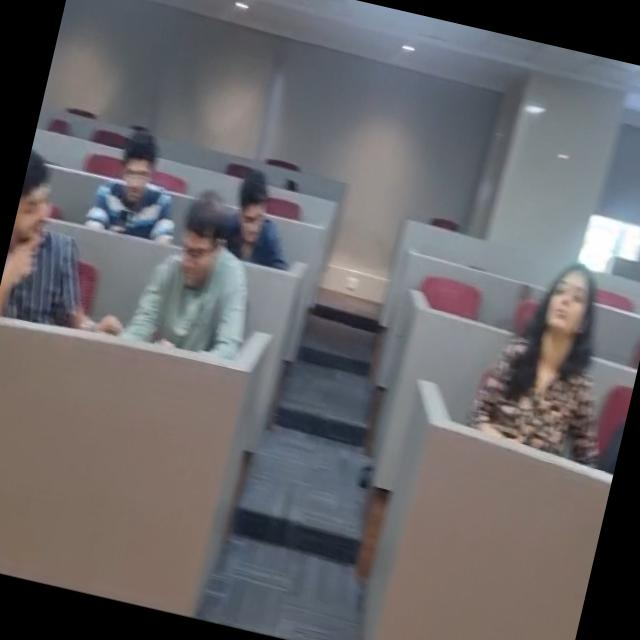cheating: (448, 233, 640, 472), (109, 195, 260, 378), (80, 109, 201, 251), (0, 164, 84, 366)
non-cheating: (219, 158, 300, 268)
